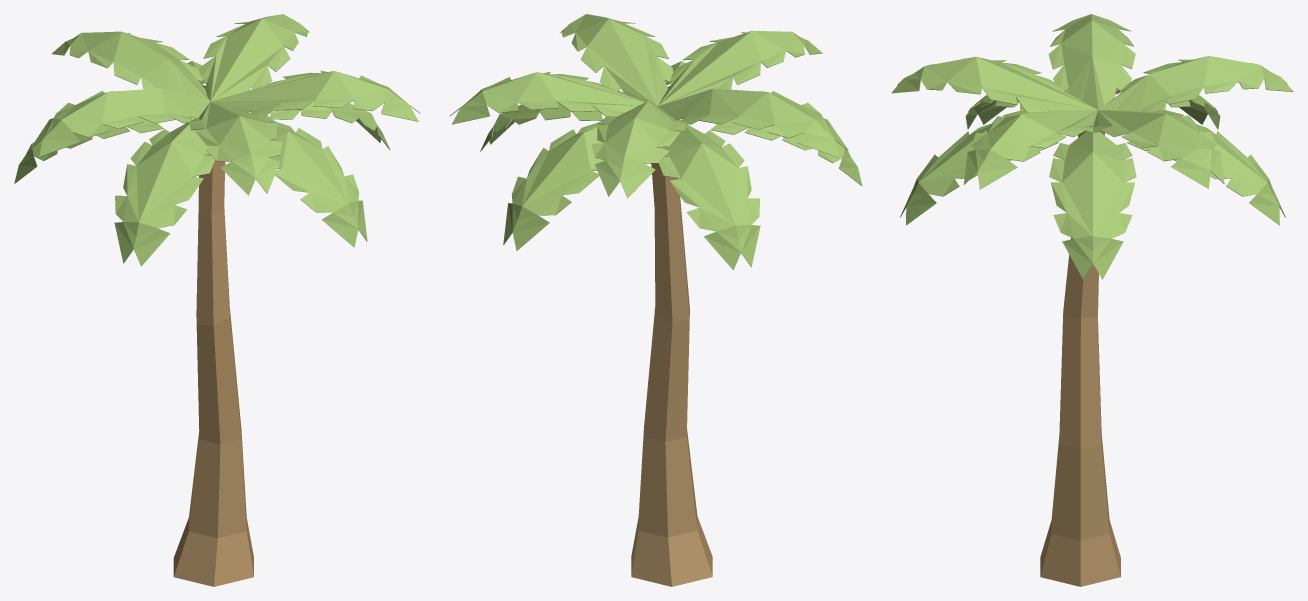
File: Palm_2.fbx
3 renders of one model, left to right at view 1: azimuth 30°, elevation 25°; view 2: azimuth 150°, elevation 25°; view 3: azimuth 270°, elevation 25°, orthographic.
Parts seen in each view (by area): view 1: Palm_2; view 2: Palm_2; view 3: Palm_2.
Part boxes in pixels (left/top/right/bottom): Palm_2: left=14, top=14, right=420, bottom=586; Palm_2: left=450, top=14, right=862, bottom=586; Palm_2: left=891, top=14, right=1293, bottom=586.
Size of the model in its own units: 292 by 393 by 288.
Materials: 1 (1 with a texture image).
